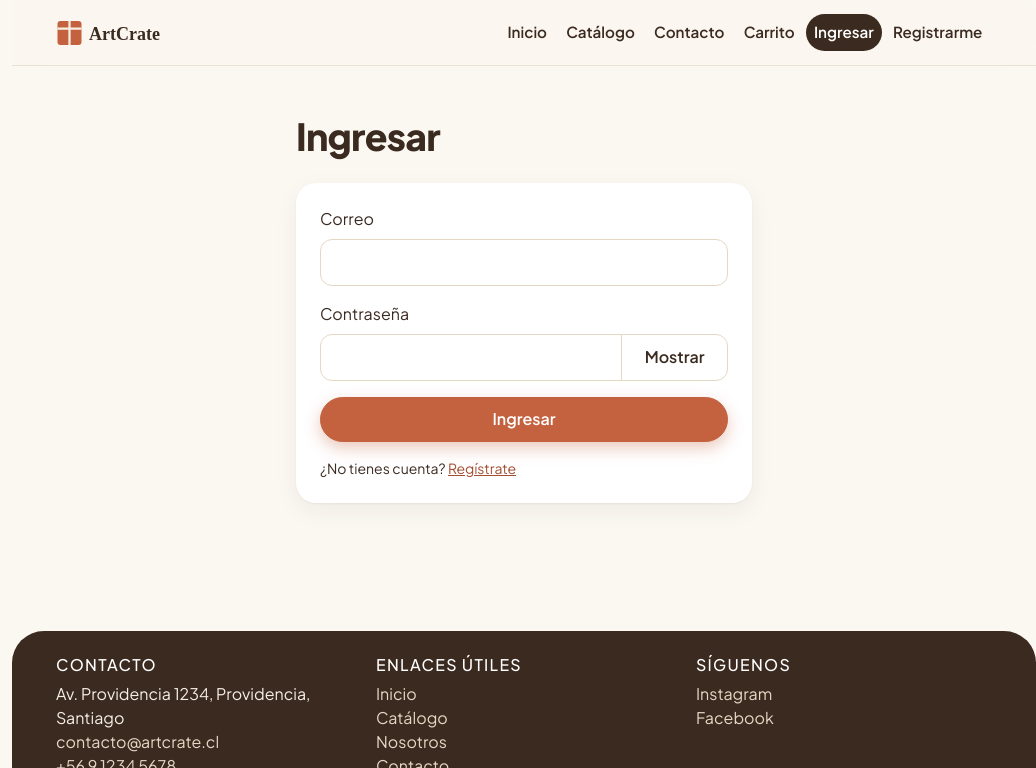
it: Login › el administrador entra directo al panel de administración
Step 1. Type "admin@artcrate.cl" into the field labelled "Correo" → (524, 262), box top-left (320, 239), bottom-right (728, 286)
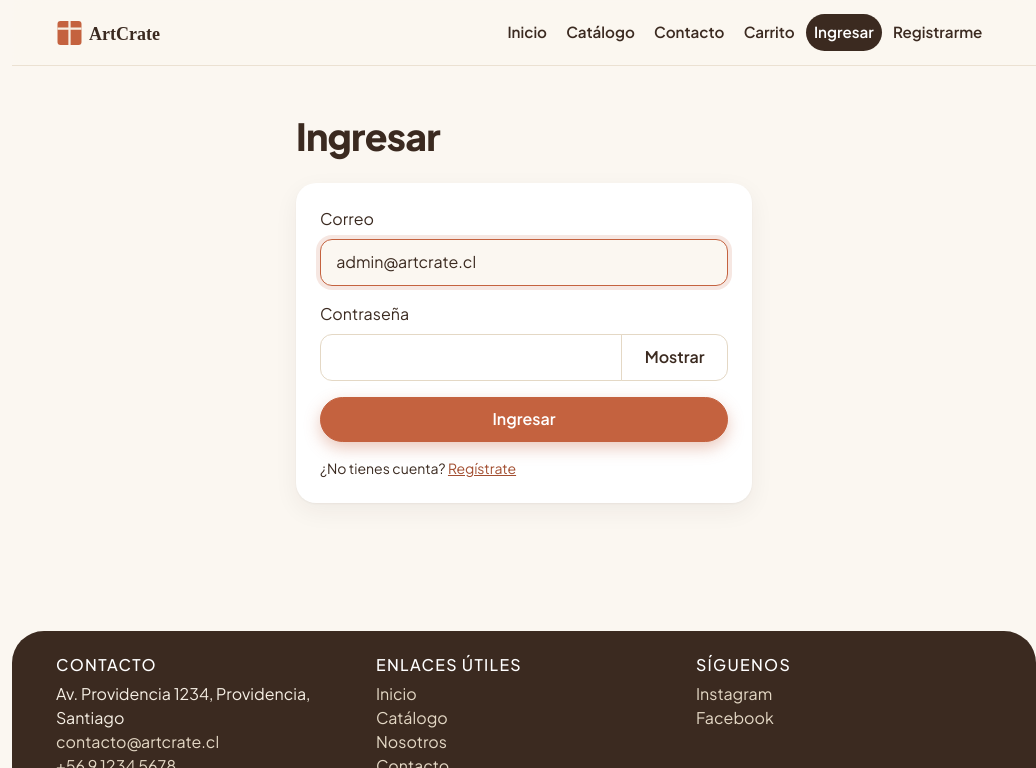
Step 2. Type "Clave1234" into the password field labelled "Contraseña" → (471, 357), box top-left (320, 334), bottom-right (622, 381)
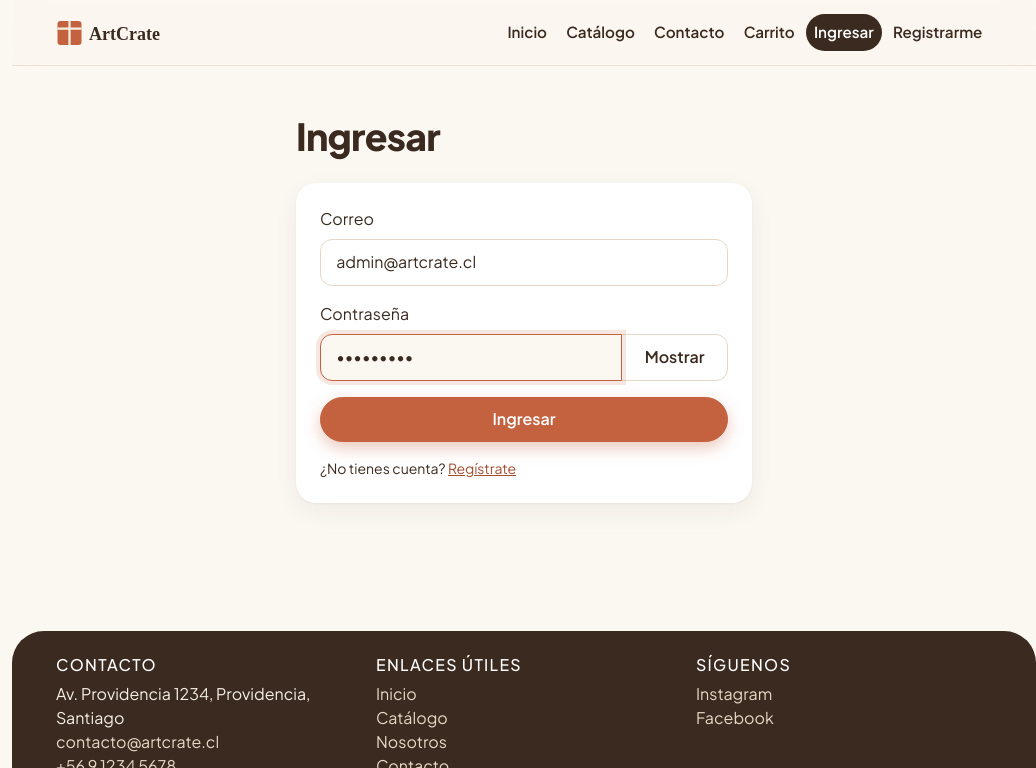
Step 3. Click the button "Ingresar" → (524, 419), box top-left (320, 397), bottom-right (728, 442)
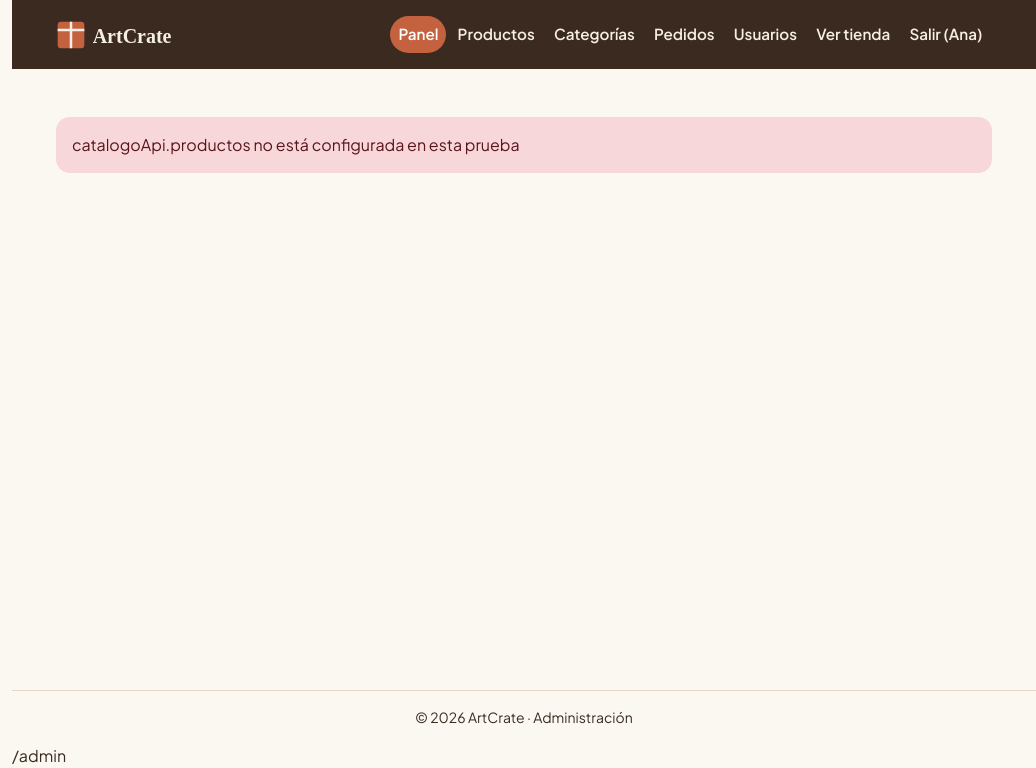
Expected: the text with test id "ruta" reads "/admin", top-left (12, 745), bottom-right (66, 766)
